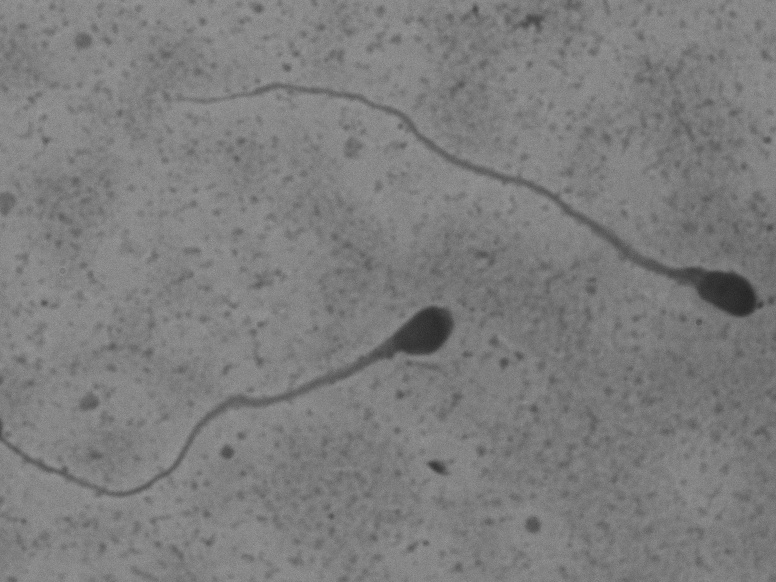Abnormal: (163, 67, 766, 337), (18, 270, 482, 535)
